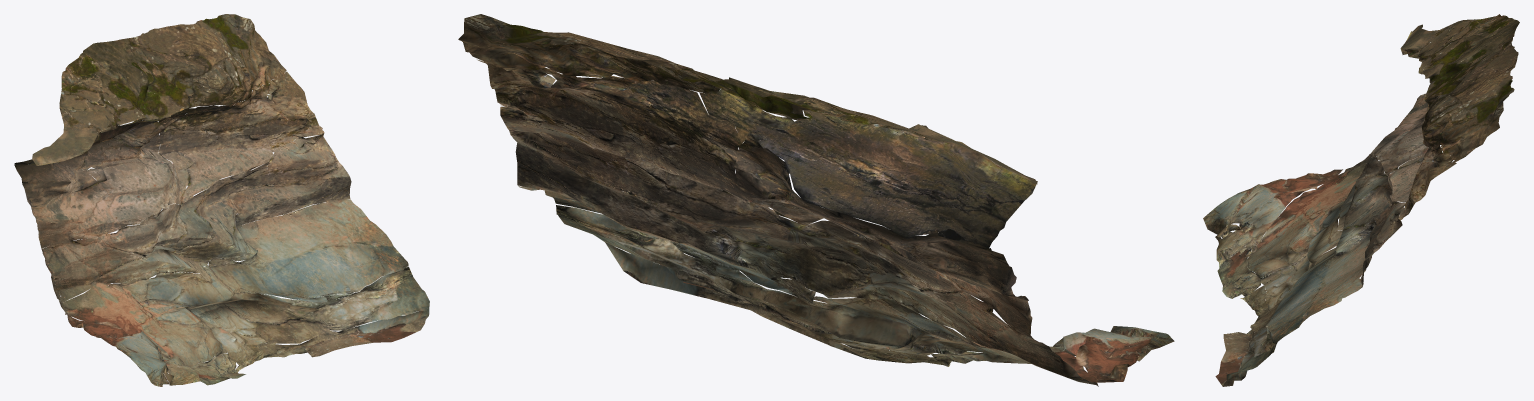
File: rock_face_01_LOD2.fbx
3 renders of one model, left to right at view 1: azimuth 30°, elevation 25°; view 2: azimuth 150°, elevation 25°; view 3: azimuth 270°, elevation 25°, orthographic. The views are drawn at different scales.
Visible parts, largest first — view 1: rock_face_01.001; view 2: rock_face_01.001; view 3: rock_face_01.001.
Boxes of the visible parts, x1,y1,x2,y2 form: rock_face_01.001: [14, 14, 429, 386]; rock_face_01.001: [458, 14, 1174, 386]; rock_face_01.001: [1203, 14, 1519, 386].
Bounding box in the file's own units: 4.95 × 3.57 × 3.83.
1 material, 1 textured.
